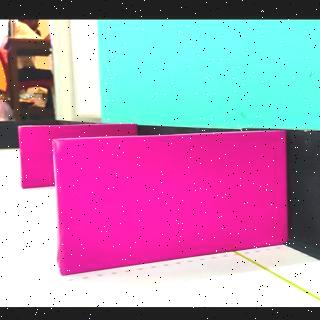xparking: (64, 144, 286, 276), (20, 128, 54, 188)
